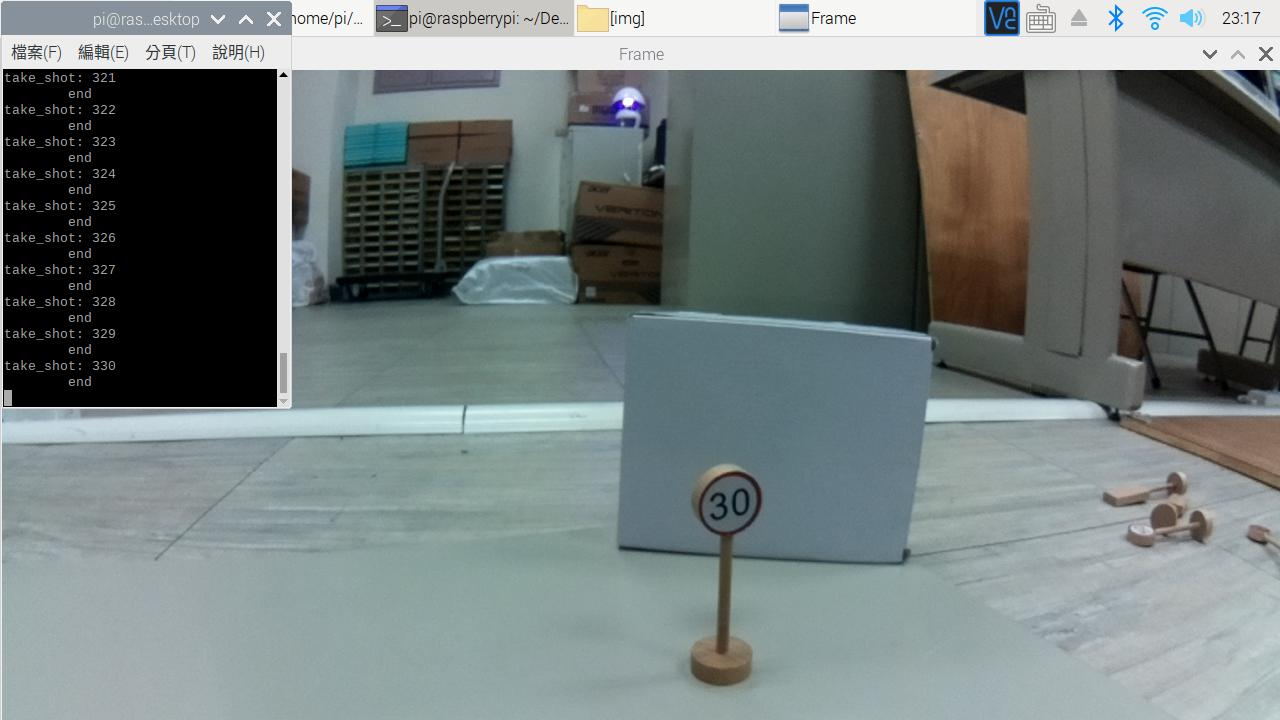Speed30: (674, 461, 795, 552)
